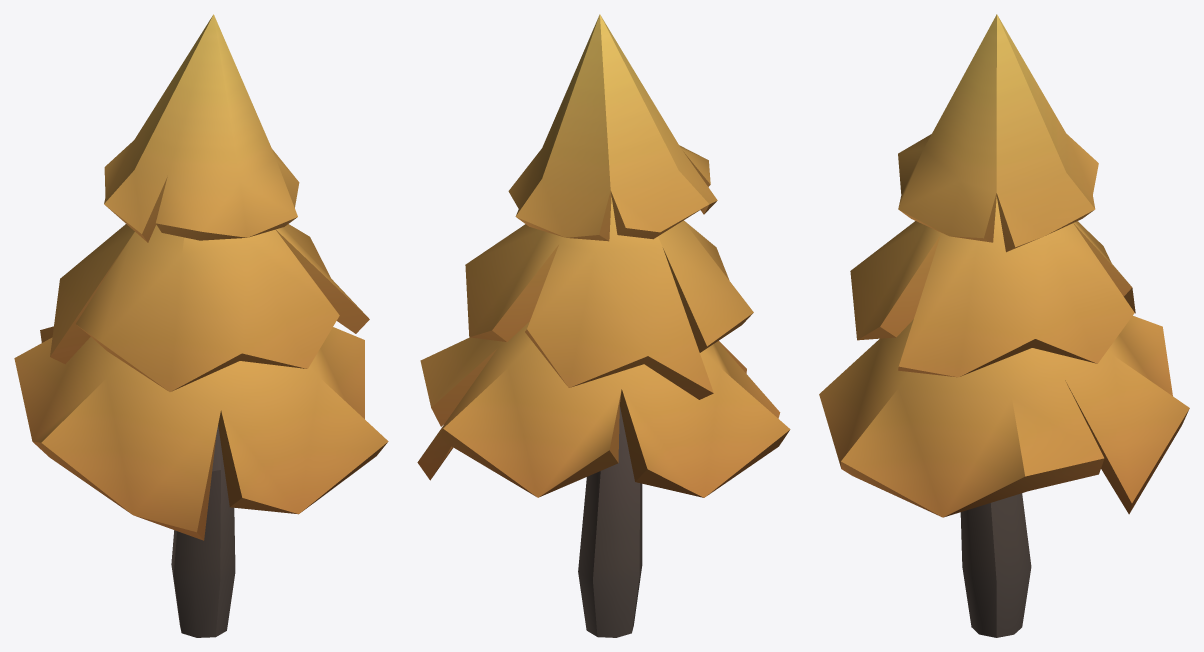
Rendered from d_kaykit_sapin_dore_petit.glb.
3 renders of one model, left to right at view 1: azimuth 30°, elevation 25°; view 2: azimuth 150°, elevation 25°; view 3: azimuth 270°, elevation 25°, orthographic.
Parts seen in each view (by area): view 1: d_kaykit_sapin_dore_petit; view 2: d_kaykit_sapin_dore_petit; view 3: d_kaykit_sapin_dore_petit.
Part boxes in pixels (x1,y1,x2,y2): d_kaykit_sapin_dore_petit: (14, 14, 388, 637); d_kaykit_sapin_dore_petit: (417, 14, 790, 637); d_kaykit_sapin_dore_petit: (819, 14, 1189, 637).
Bounding box in the file's own units: 2.4 × 4.04 × 2.2.
1 material, 1 textured.
